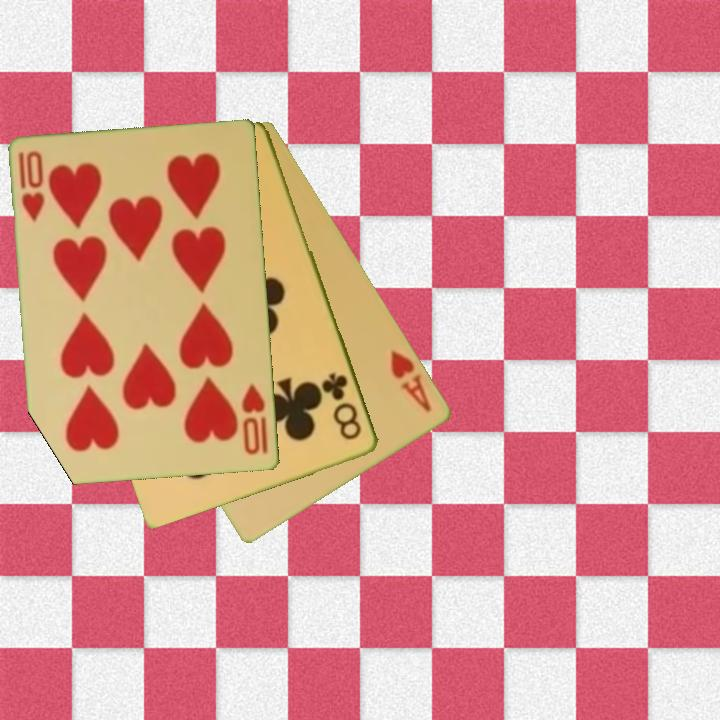10h: (15, 148, 48, 226), (239, 381, 268, 458)
8c: (319, 369, 365, 443)
Ah: (387, 347, 435, 415)
